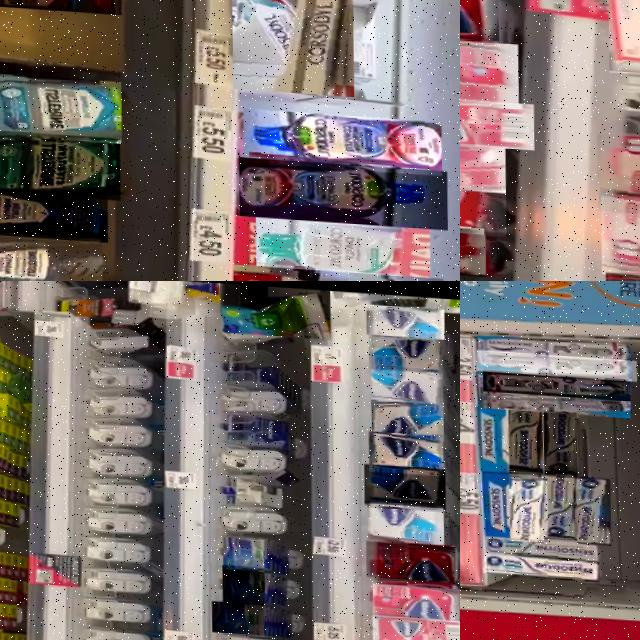Mouthwash: (0, 66, 120, 140), (0, 123, 118, 197), (0, 179, 105, 240), (0, 225, 99, 281)
Other: (235, 153, 446, 224), (240, 104, 440, 169), (252, 213, 428, 277), (217, 281, 329, 334), (228, 259, 441, 281), (460, 29, 517, 105), (460, 89, 531, 146), (593, 128, 640, 212), (361, 458, 444, 505), (362, 534, 453, 576), (596, 190, 640, 274), (366, 425, 442, 472), (368, 577, 457, 616), (364, 498, 442, 538), (369, 393, 442, 434), (366, 328, 440, 367), (368, 362, 442, 401), (366, 609, 459, 640), (364, 298, 444, 332), (54, 290, 139, 320), (460, 175, 504, 232), (460, 133, 504, 189), (207, 597, 261, 631), (219, 561, 262, 601), (219, 533, 262, 567)
Toothbrush: (476, 327, 631, 360), (474, 347, 635, 377), (480, 366, 628, 397), (477, 384, 628, 414)
Toothpaste: (479, 551, 596, 576), (481, 533, 593, 559), (505, 470, 546, 540), (505, 401, 541, 474), (570, 472, 608, 541), (540, 406, 575, 476), (538, 474, 575, 540)
